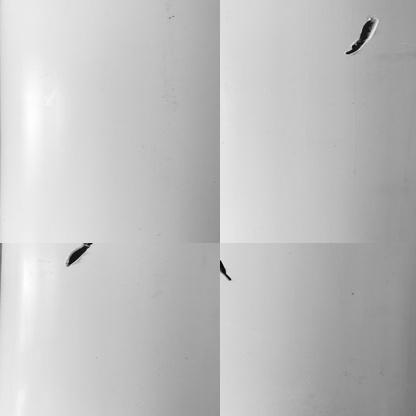kongdong: (341, 11, 381, 60), (62, 242, 95, 267), (212, 256, 236, 289)
